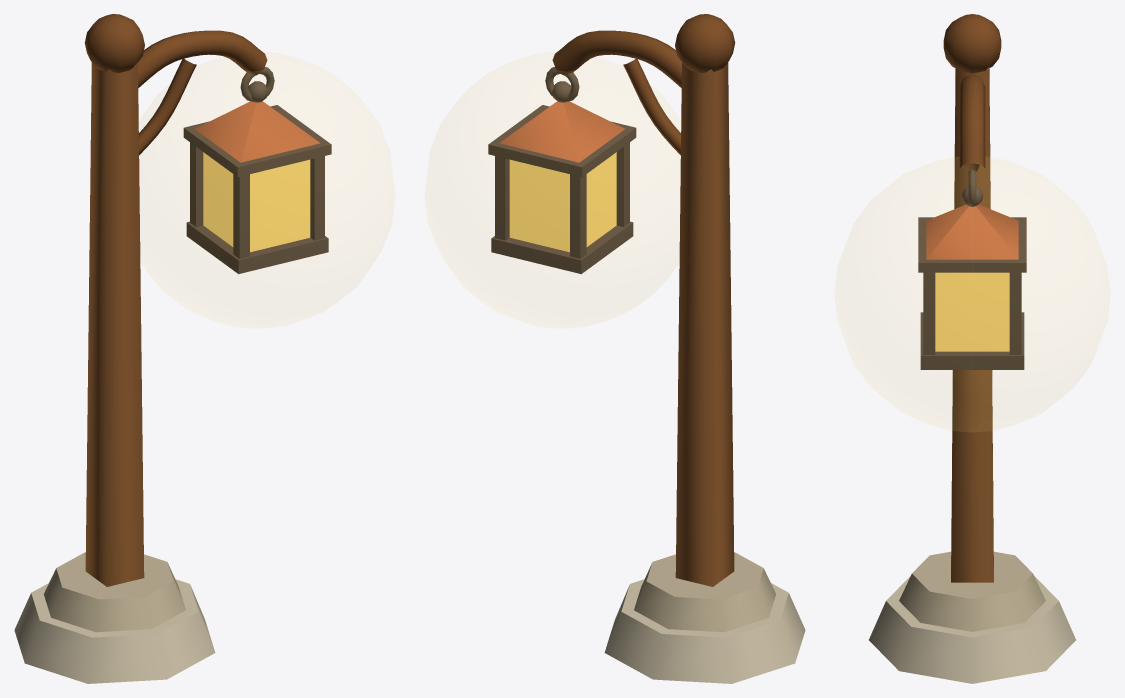
The model's file is lantern.glb.
3 views of the same model, side by side, from view 1: azimuth 30°, elevation 25°; view 2: azimuth 150°, elevation 25°; view 3: azimuth 270°, elevation 25° (orthographic).
Parts seen in each view (by area): view 1: lantern, lantern_glow; view 2: lantern, lantern_glow; view 3: lantern, lantern_glow.
Boxes of the visible parts, bbox=[...] form: lantern: bbox=[14, 14, 331, 683]; lantern_glow: bbox=[203, 152, 310, 252]; lantern: bbox=[488, 14, 805, 683]; lantern_glow: bbox=[509, 152, 616, 252]; lantern: bbox=[869, 14, 1075, 683]; lantern_glow: bbox=[935, 272, 1009, 351].
Bounding box in the file's own units: 0.94 × 1.59 × 0.64.
